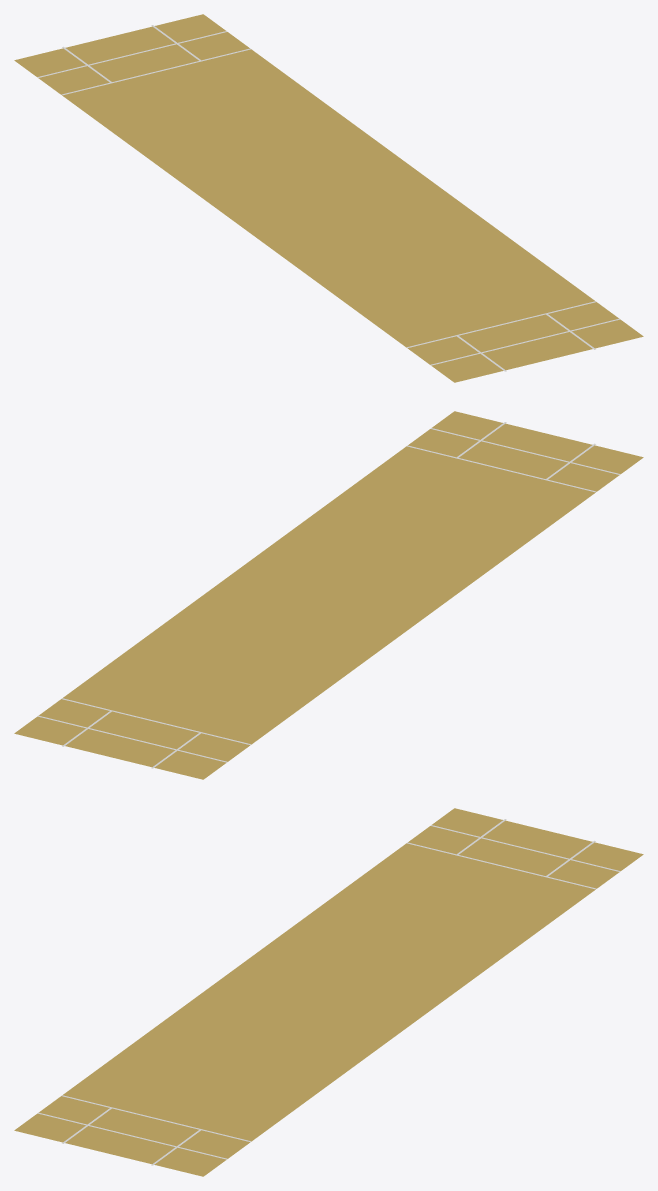
File: Pitch@2x.fbx
3 renders of one model, top to bottom at view 1: azimuth 30°, elevation 25°; view 2: azimuth 150°, elevation 25°; view 3: azimuth 330°, elevation 25°, orthographic.
Parts seen in each view (by area): view 1: Pitch; view 2: Pitch; view 3: Pitch.
Part boxes in pixels (box(x1,y1,x2,y2)): Pitch: box(14, 14, 643, 382); Pitch: box(14, 411, 643, 779); Pitch: box(14, 808, 643, 1176).
Size of the model in its own units: 1120 by 1 by 4541.
